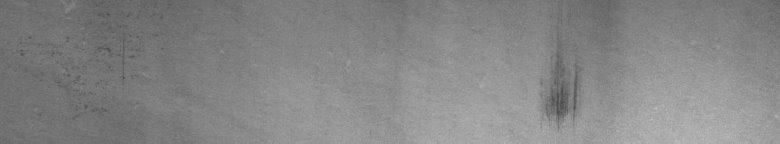ka: (544, 53, 581, 128)
